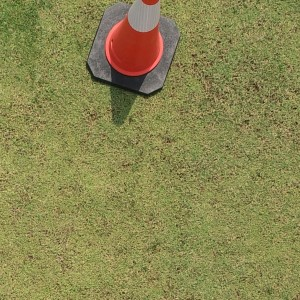traffic cone: (86, 1, 180, 94)
